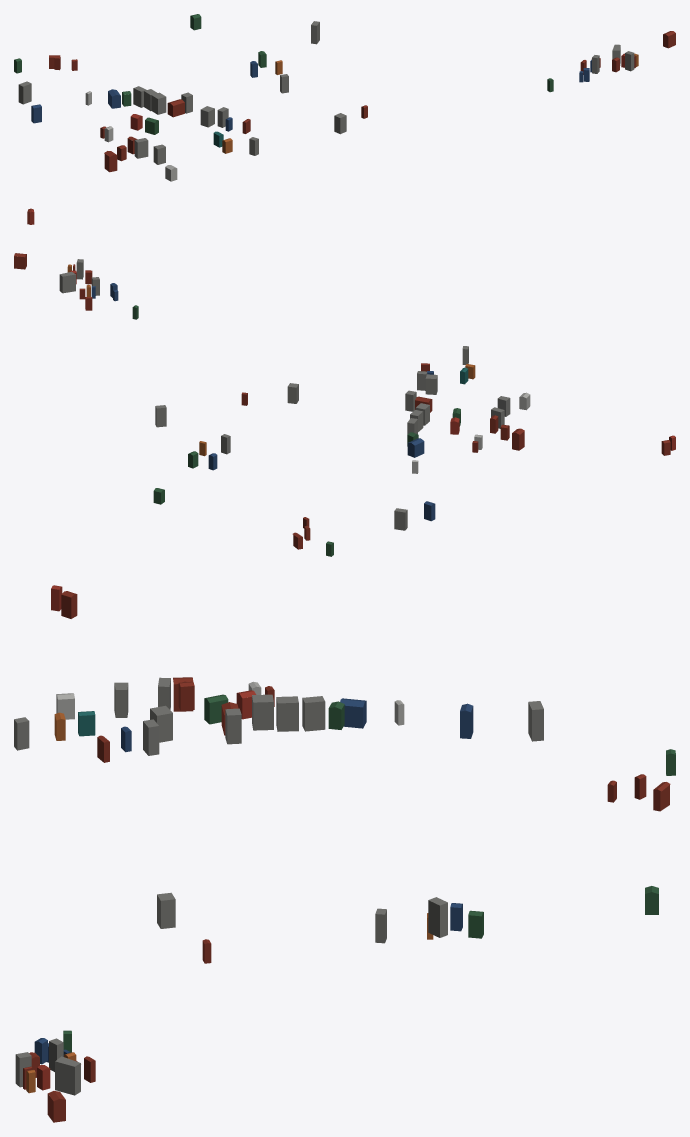
File: near-15-27372-14873.ff53f7c1.glb
The picture shows the model from 3 angles, top to bottom: view 1: azimuth 30°, elevation 25°; view 2: azimuth 150°, elevation 25°; view 3: azimuth 270°, elevation 25°; orthographic projection. The views are drawn at different scales.
Size of the model in its own units: 965 by 89.15 by 486.
